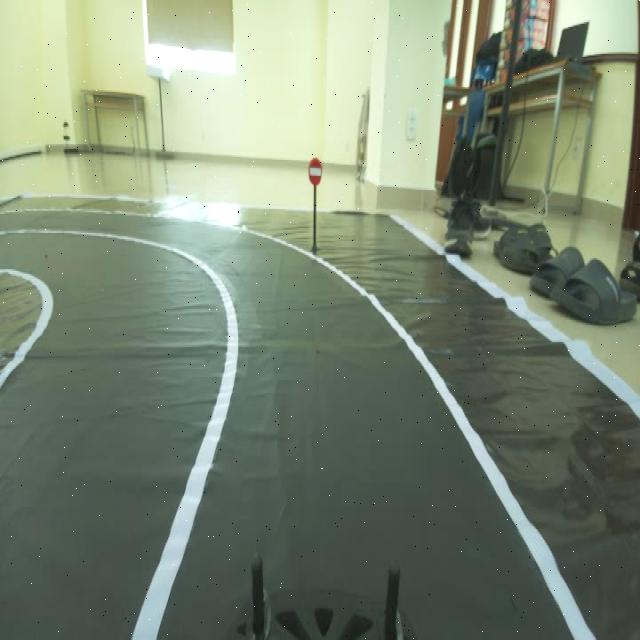no_entry: (300, 156, 328, 193)
